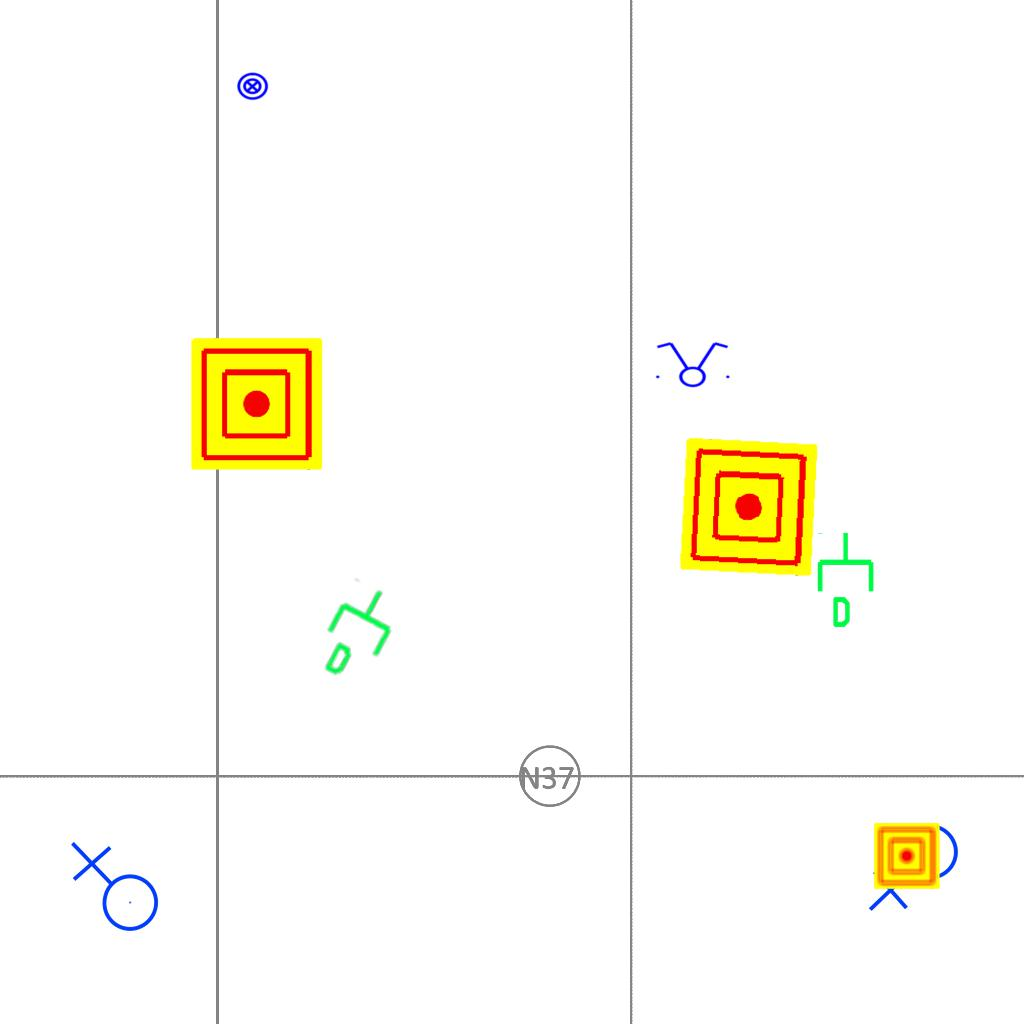Datenanschluss_einfach: (305, 573, 414, 695), (813, 530, 882, 630)
Elektroanschluss_allgemein_230V_Geraeteanschlussdose_230V: (868, 822, 967, 916), (66, 841, 160, 940)
NAM-Nichtautomatischer_Melder: (679, 437, 819, 577), (191, 338, 323, 470), (874, 823, 940, 889)
Serienschalter: (650, 340, 734, 388)
Taster_beleuchtet: (236, 70, 269, 103)
